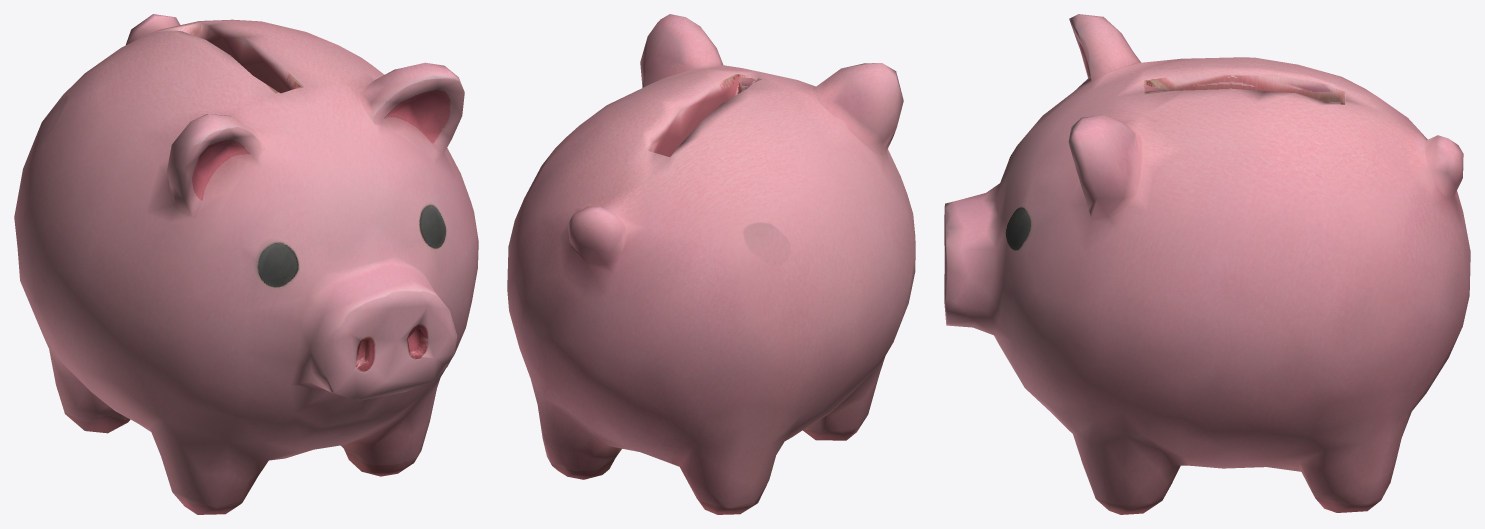
File: PiggyNormal.glb
3 views of the same model, side by side, from view 1: azimuth 30°, elevation 25°; view 2: azimuth 150°, elevation 25°; view 3: azimuth 270°, elevation 25° (orthographic). The views are drawn at different scales.
Parts seen in each view (by area): view 1: texture_mapping; view 2: texture_mapping; view 3: texture_mapping.
Part boxes in pixels (box(x1,y1,x2,y2)): texture_mapping: box(14, 14, 478, 514); texture_mapping: box(507, 14, 915, 514); texture_mapping: box(944, 14, 1470, 514).
Size of the model in its own units: 0.8182 by 0.838 by 1.
1 material, 1 textured.
